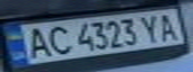2: (106, 17, 127, 50)
3: (118, 16, 142, 47), (90, 19, 112, 51)
4: (72, 20, 93, 52)
A: (18, 25, 54, 60), (151, 11, 181, 42)
C: (42, 24, 72, 56)
Y: (136, 12, 166, 43)
